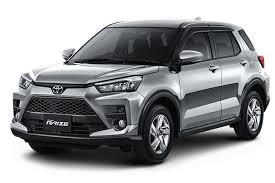mobil: (6, 8, 269, 155)
